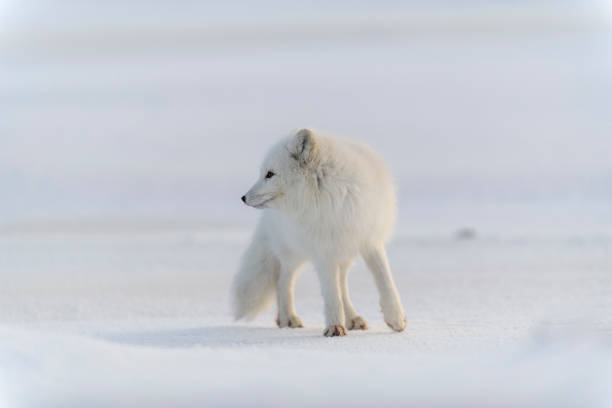arcticfox: (231, 131, 292, 222)
